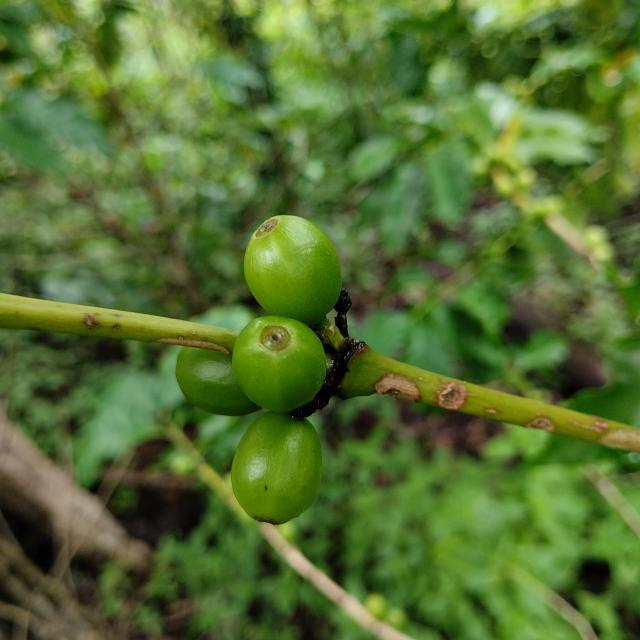green: (244, 215, 341, 325), (231, 412, 322, 525), (232, 316, 326, 412), (175, 347, 260, 416)
